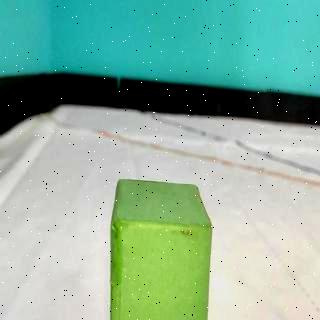greenbox: (110, 175, 213, 320)
